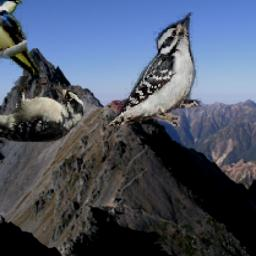Swallow: (0, 0, 40, 76)
Woodpecker: (107, 12, 201, 126), (0, 77, 83, 143)
